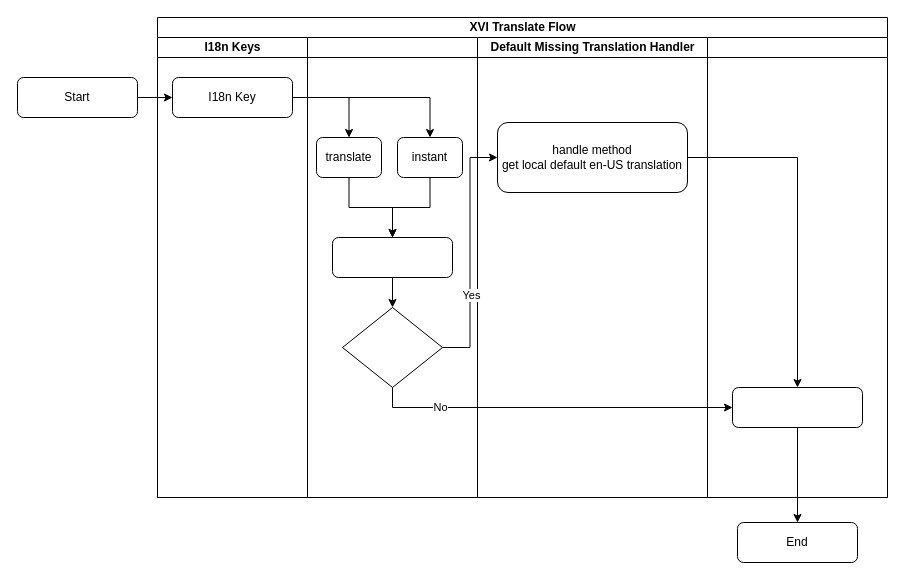
Some shapes in this 905 by 580 pixel diagram are drawn without their labels. Here are the shapes that lost their labels. From the top down, the box of each, then its label:
(332, 236, 452, 278): Get Translation
(306, 36, 478, 498): Translate Pipe / Service
(706, 36, 888, 498): Default Translation Parser
(342, 306, 442, 388): Translation undefined?
(732, 386, 862, 428): interpolate with generateMessage
